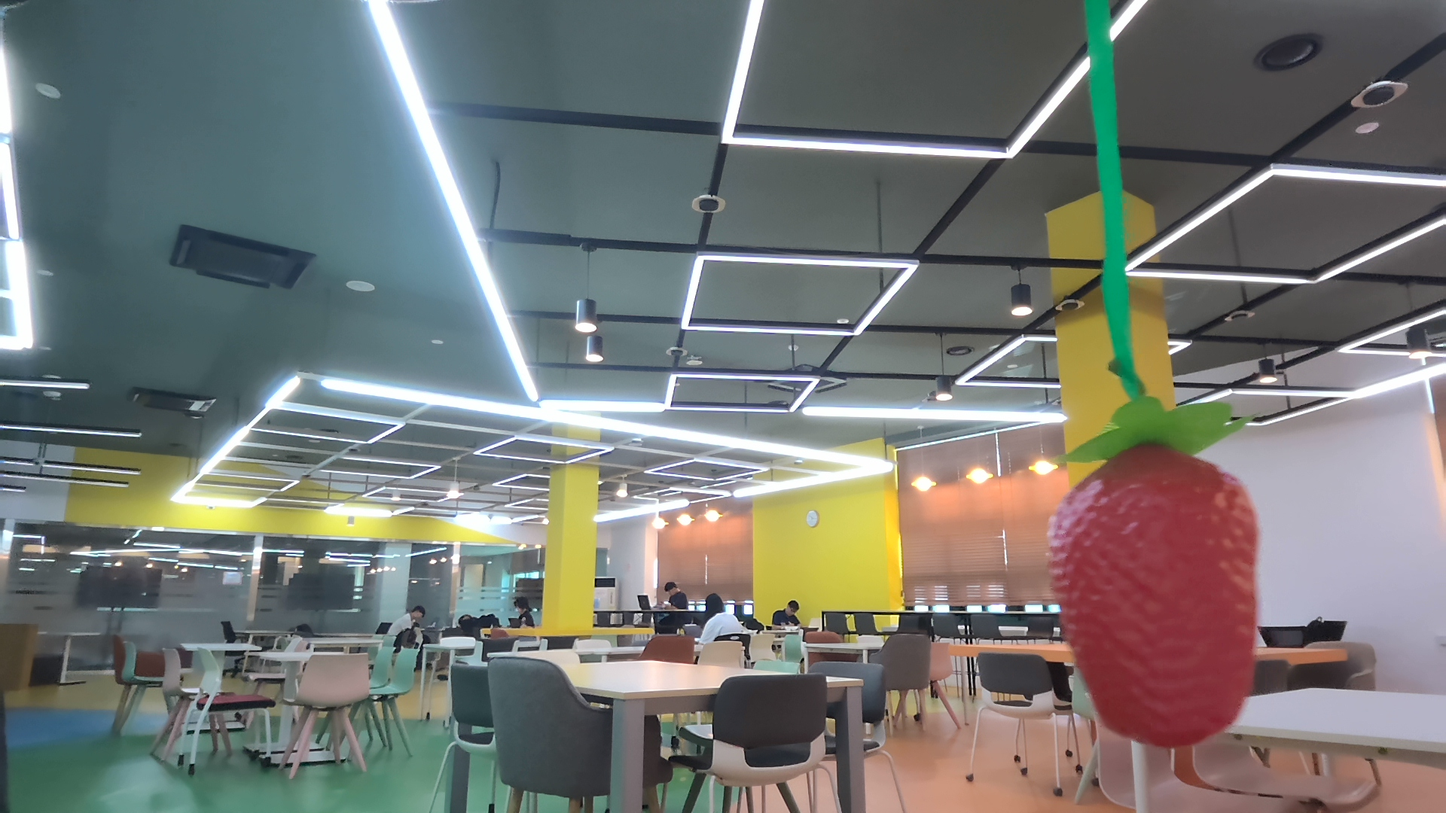strawberry: (1044, 424, 1271, 747)
